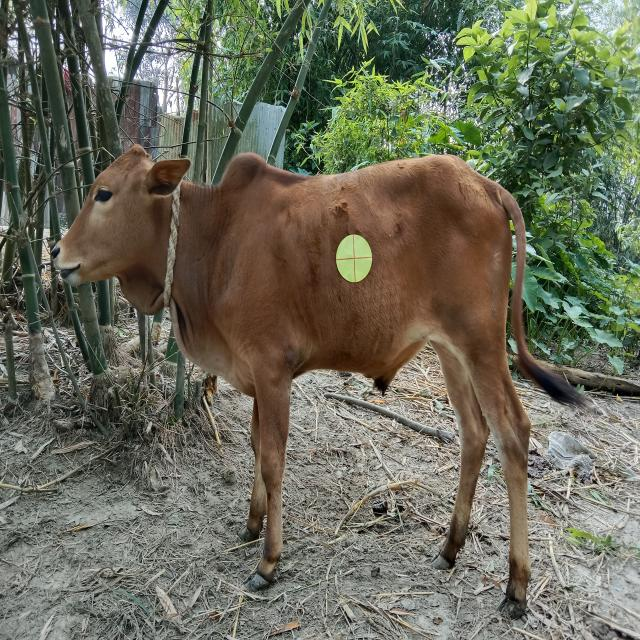badan_sapi: (229, 169, 507, 371)
sapi: (32, 113, 563, 640)
